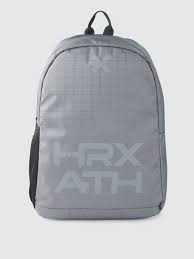backpack: (28, 10, 167, 220)
